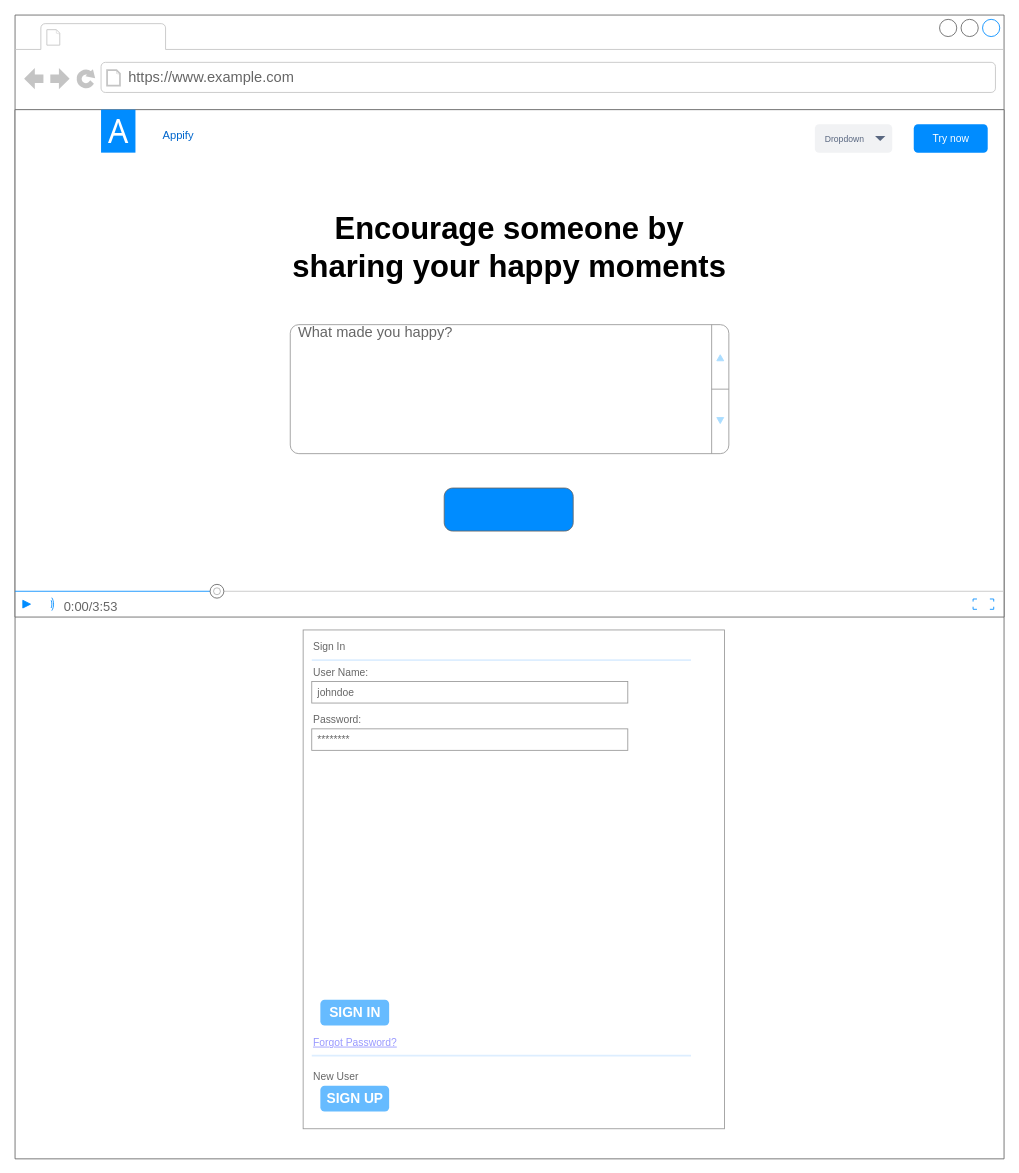
This 1019x1173 diagram has some shape labels left out. The shapes that lost their labels are listed below. From the top down, each one's centre as x and y in pixels, then its label:
At [113,36]: "Page 1".
At [508,509]: "Share Moments".
